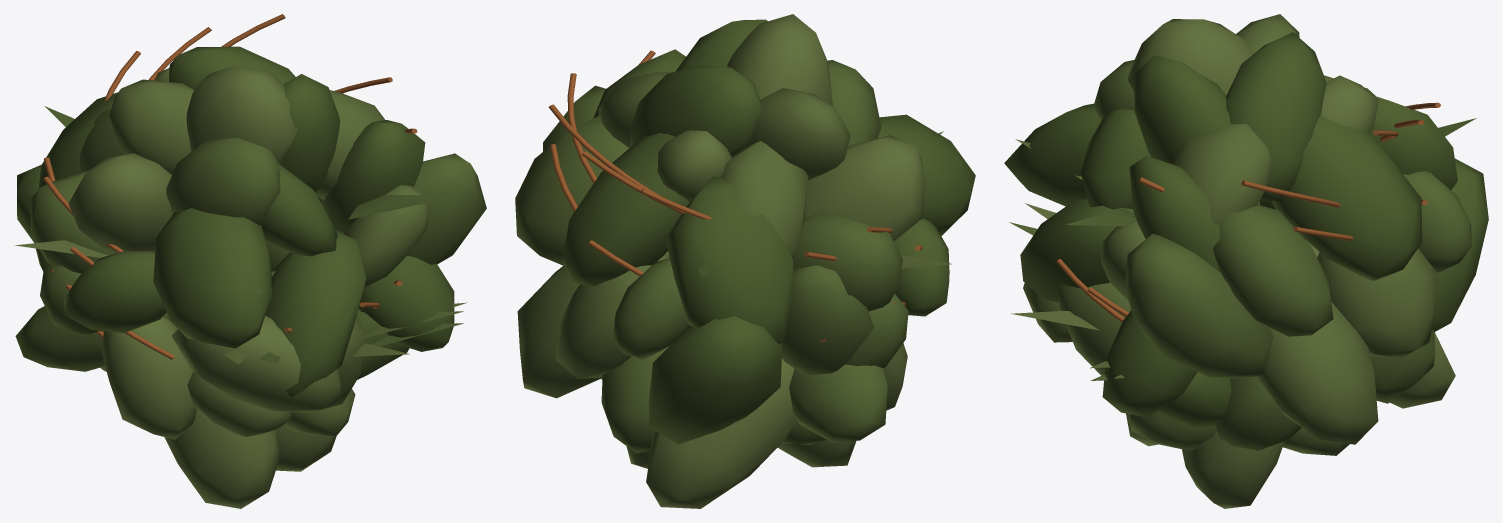
Rendered from bud_1.glb.
3 renders of one model, left to right at view 1: azimuth 30°, elevation 25°; view 2: azimuth 150°, elevation 25°; view 3: azimuth 270°, elevation 25°, orthographic. The views are drawn at different scales.
Parts seen in each view (by area): view 1: Bud_1; view 2: Bud_1; view 3: Bud_1.
Boxes of the visible parts, left/top/right/bottom form: Bud_1: left=15, top=14, right=486, bottom=508; Bud_1: left=515, top=14, right=975, bottom=508; Bud_1: left=1004, top=14, right=1488, bottom=508.
Bounding box in the file's own units: 0.0057 × 0.00561 × 0.00547.
